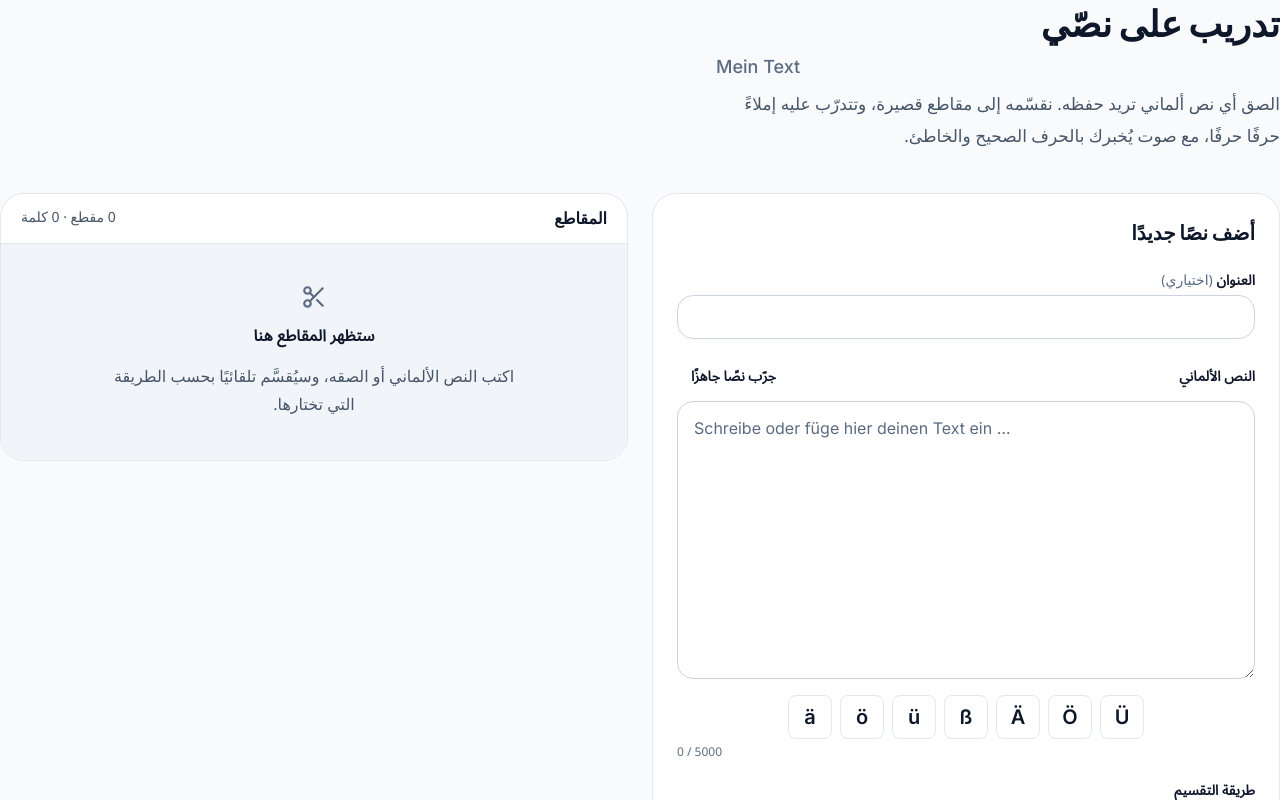
Test: MyTextPage › fills in a ready-made text on request
Click the button "جرّب نصًا جاهزًا" at (734, 377), box [677,359,790,395]
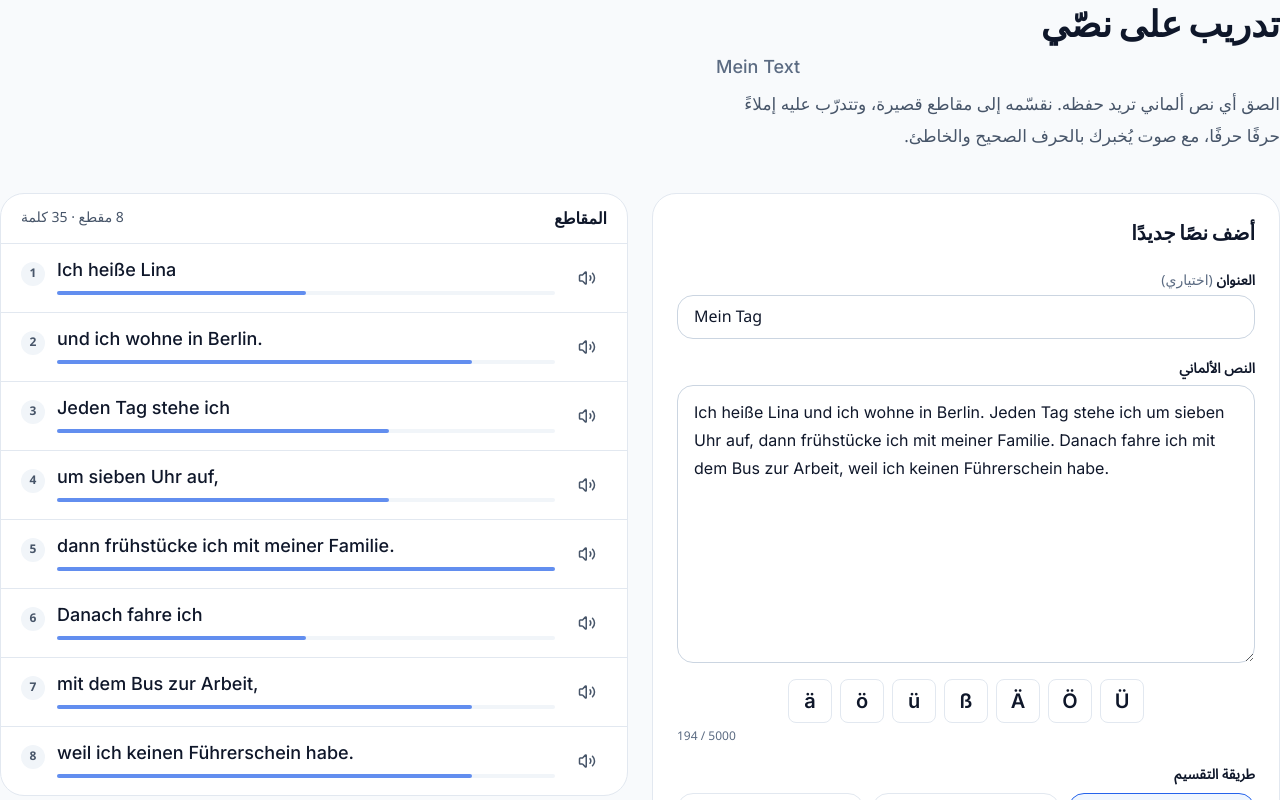
Now the button "جرّب نصًا جاهزًا" is gone
